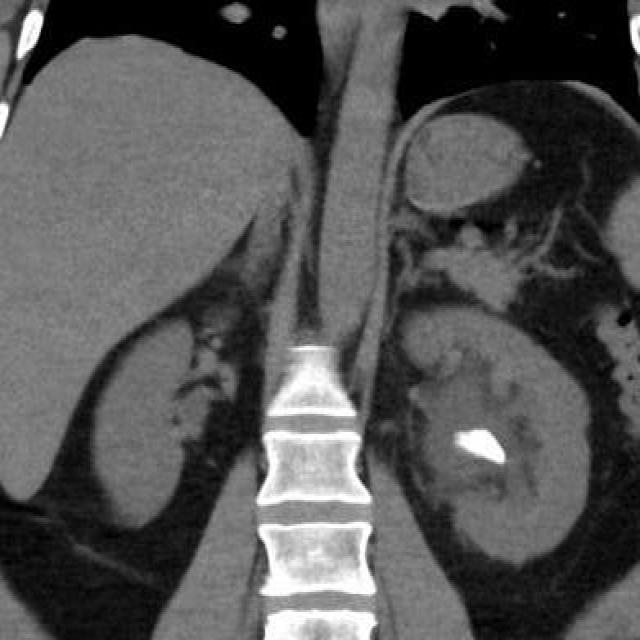Tas_Var: (445, 422, 517, 468)
